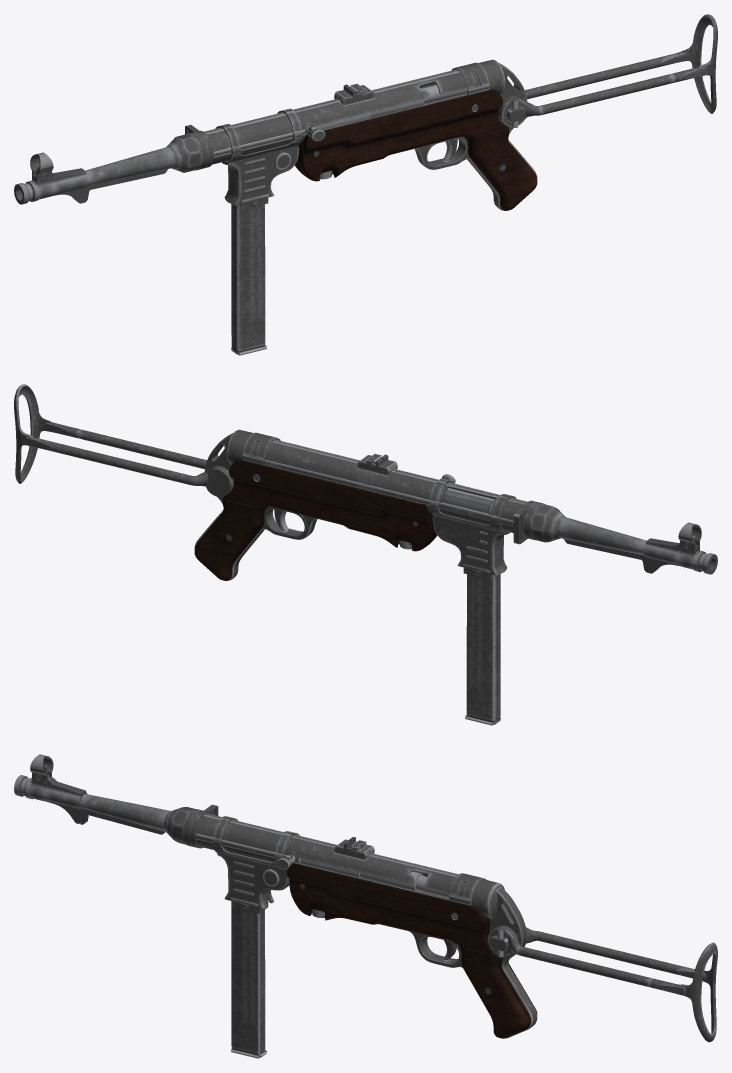
The picture shows the model from 3 angles, top to bottom: view 1: azimuth 30°, elevation 25°; view 2: azimuth 150°, elevation 25°; view 3: azimuth 330°, elevation 25°; orthographic projection.
Visible parts, largest first — view 1: mp40; view 2: mp40; view 3: mp40.
Part boxes in pixels (x1,y1,x2,y2): mp40: [14, 14, 717, 355]; mp40: [14, 384, 717, 725]; mp40: [14, 754, 717, 1058].
Bounding box in the file's own units: 0.83 × 0.2809 × 0.0675.
1 material, 1 textured.
